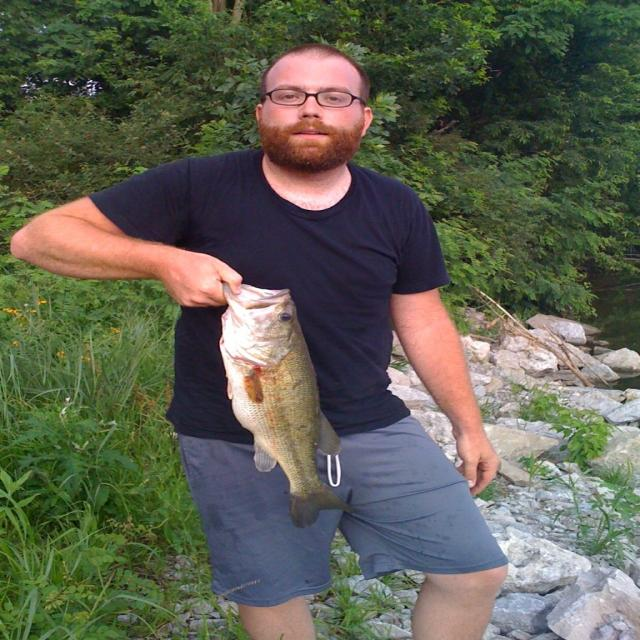Bass - Largemouth: (220, 284, 351, 527)
